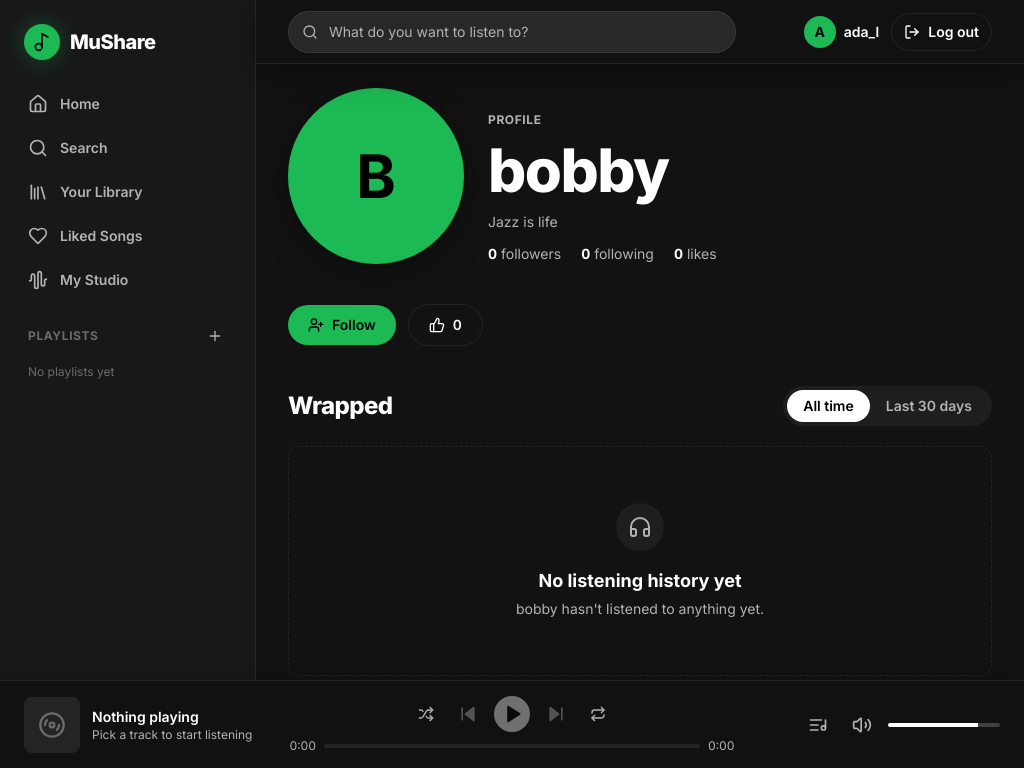
Test: profile page › follows instantly, before the server answers, and unfollows again
The image size is (1024, 768).
Expected: the heading "bobby" is shown, [488,134,668,206]
Click the button with aria-label "Follow bobby" at (342, 325), box [288,305,396,345]
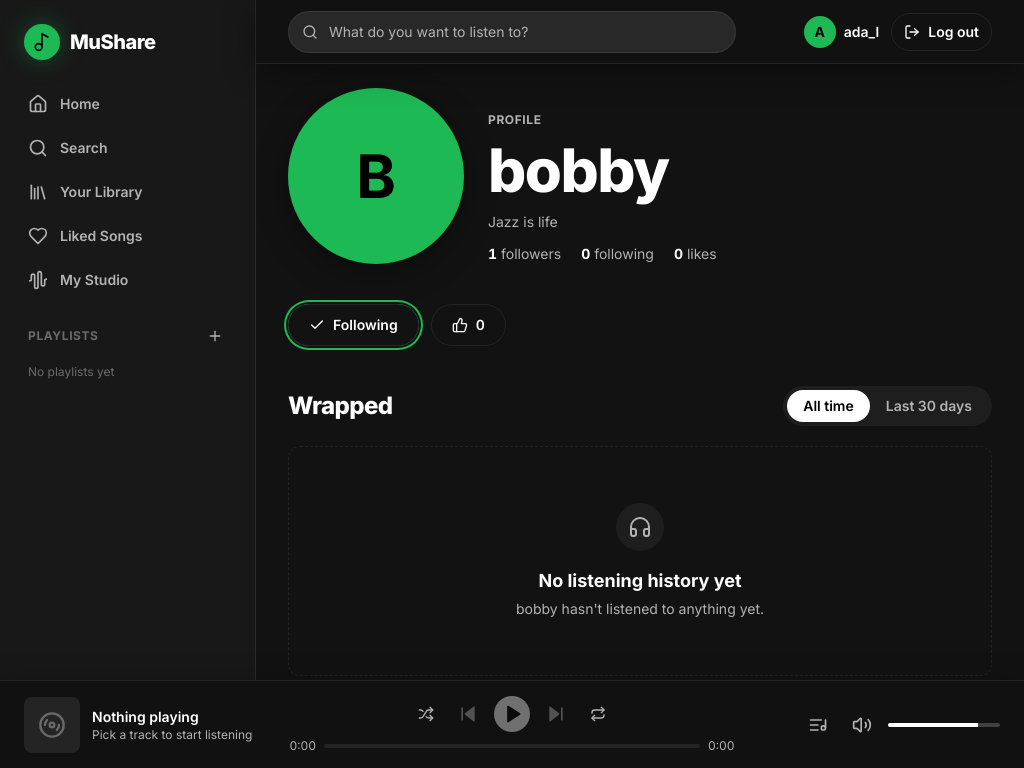
Now the button with aria-label "Follow bobby" reads "Following"
Now the link "1 followers" is shown, box [488,244,561,264]
Click the button with aria-label "Follow bobby" at (353, 325), box [288,304,419,346]
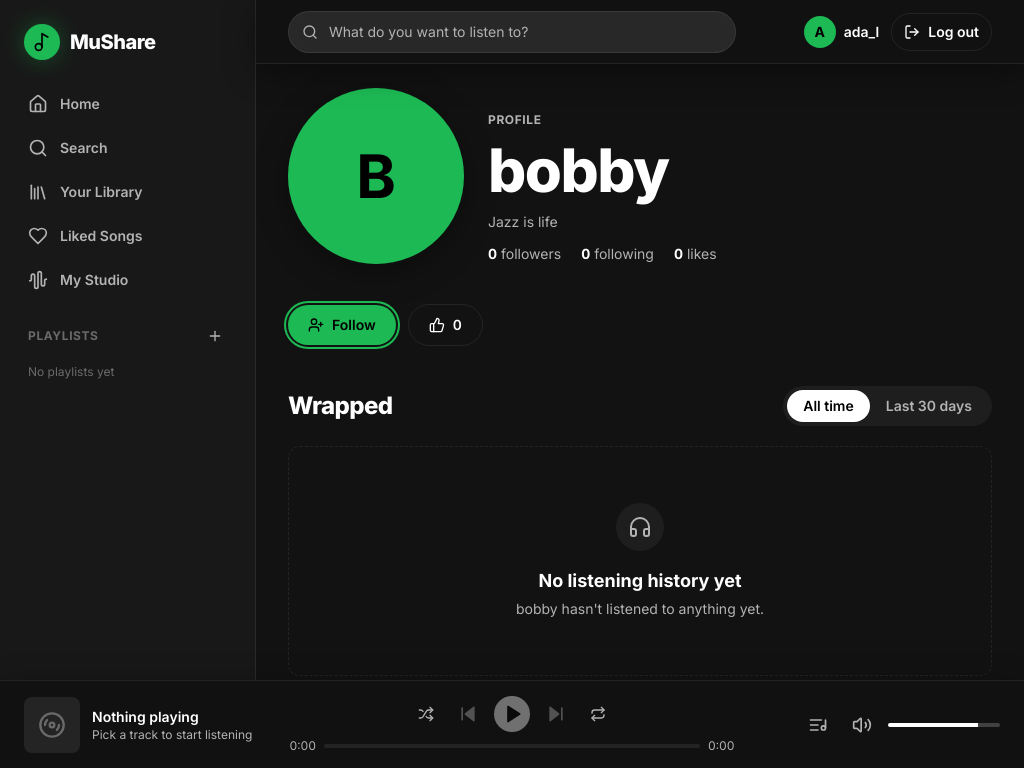
Now the link "0 followers" is shown, box [488,244,561,264]
